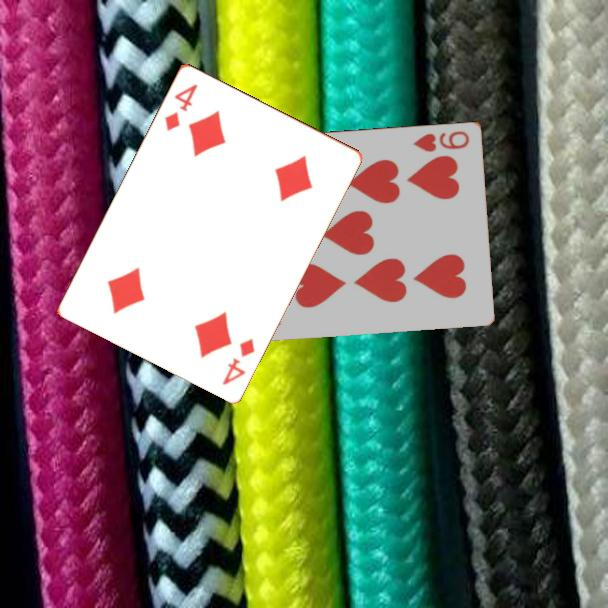d04: (161, 80, 200, 134), (219, 334, 257, 387)
h09: (410, 127, 472, 154)
